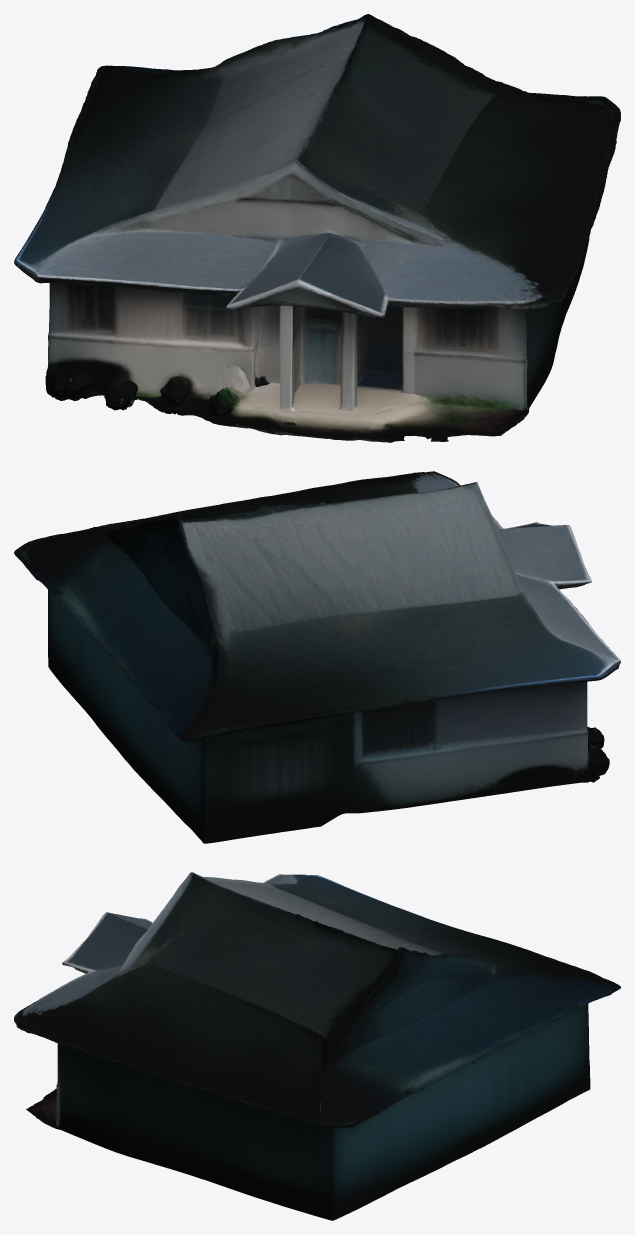
Rendered from ranch-house.glb.
3 renders of one model, top to bottom at view 1: azimuth 30°, elevation 25°; view 2: azimuth 150°, elevation 25°; view 3: azimuth 270°, elevation 25°, orthographic. The views are drawn at different scales.
Parts seen in each view (by area): view 1: geometry_0; view 2: geometry_0; view 3: geometry_0.
Boxes of the visible parts, left/top/right/bottom form: geometry_0: left=14, top=14, right=620, bottom=442; geometry_0: left=14, top=471, right=620, bottom=843; geometry_0: left=14, top=872, right=620, bottom=1220.
Bounding box in the file's own units: 0.9812 × 0.3742 × 0.9991.
Materials: 1 (1 with a texture image).
